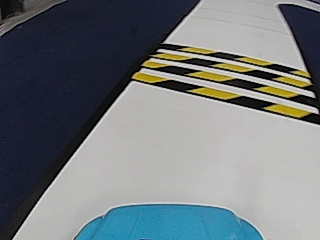bump: (162, 45, 293, 115)
